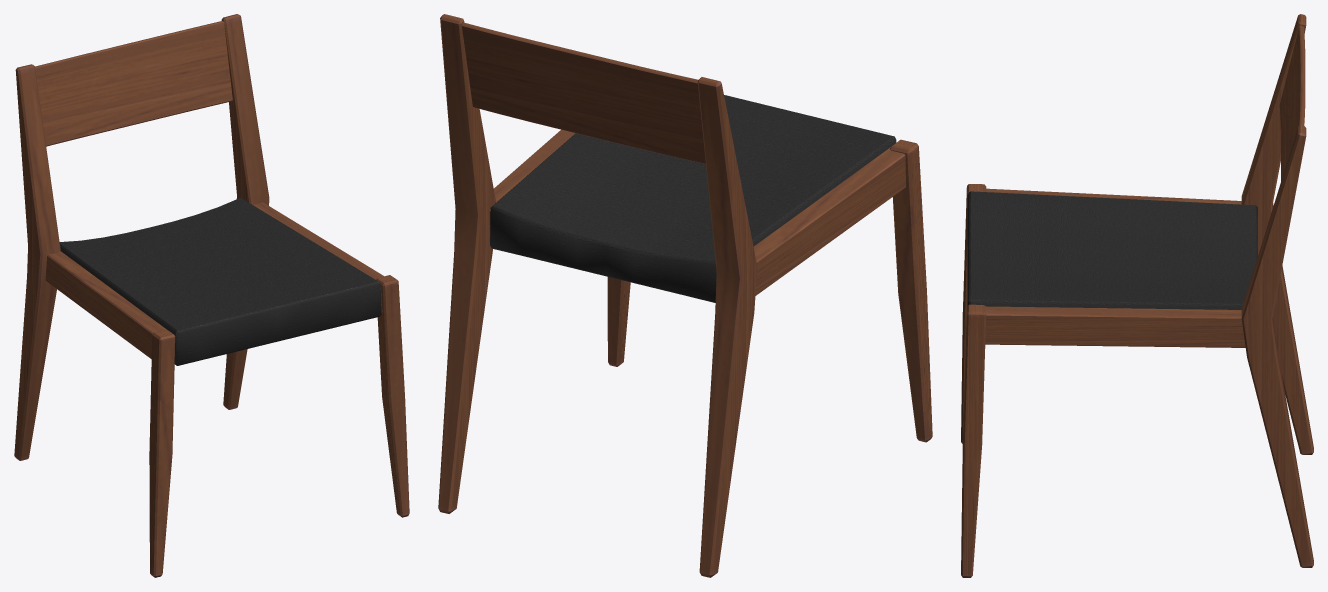
Rendered from chair1.gltf.
The picture shows the model from 3 angles, left to right: view 1: azimuth 30°, elevation 25°; view 2: azimuth 150°, elevation 25°; view 3: azimuth 270°, elevation 25°; orthographic projection. The views are drawn at different scales.
Visible parts, largest first — view 1: 1_primitive, 12_primitive, 6_primitive, 2_primitive, 15_primitive, 7_primitive, 16_primitive, 8_primitive, 4_primitive, 10_primitive, 13_primitive, 3_primitive (+1 smaller); view 2: 1_primitive, 12_primitive, 6_primitive, 7_primitive, 2_primitive, 10_primitive, 4_primitive, 15_primitive, 8_primitive, 16_primitive, 13_primitive, 3_primitive (+1 smaller); view 3: 1_primitive, 7_primitive, 10_primitive, 16_primitive, 8_primitive, 4_primitive, 6_primitive, 13_primitive, 3_primitive, 12_primitive, 2_primitive, 11_primitive.
Part boxes in pixels (left/top/right/bottom): 1_primitive: left=59, top=197, right=377, bottom=330; 12_primitive: left=35, top=22, right=232, bottom=145; 6_primitive: left=20, top=16, right=268, bottom=460; 2_primitive: left=175, top=281, right=381, bottom=365; 15_primitive: left=156, top=282, right=408, bottom=575; 7_primitive: left=14, top=19, right=248, bottom=459; 16_primitive: left=149, top=284, right=400, bottom=575; 8_primitive: left=47, top=202, right=383, bottom=333; 4_primitive: left=17, top=16, right=269, bottom=460; 10_primitive: left=45, top=256, right=152, bottom=358; 13_primitive: left=153, top=282, right=409, bottom=575; 3_primitive: left=60, top=244, right=177, bottom=364; 1_primitive: left=493, top=95, right=892, bottom=260; 12_primitive: left=462, top=26, right=705, bottom=163; 6_primitive: left=439, top=20, right=739, bottom=575; 7_primitive: left=451, top=21, right=757, bottom=574; 2_primitive: left=490, top=95, right=895, bottom=302; 10_primitive: left=489, top=155, right=905, bottom=295; 4_primitive: left=438, top=18, right=741, bottom=575; 15_primitive: left=608, top=150, right=924, bottom=440; 8_primitive: left=490, top=129, right=905, bottom=291; 16_primitive: left=619, top=146, right=932, bottom=439; 13_primitive: left=607, top=149, right=927, bottom=440; 3_primitive: left=492, top=133, right=896, bottom=246; 1_primitive: left=971, top=191, right=1255, bottom=303; 7_primitive: left=1243, top=24, right=1311, bottom=567; 10_primitive: left=985, top=315, right=1245, bottom=347; 16_primitive: left=963, top=246, right=984, bottom=576; 8_primitive: left=985, top=188, right=1245, bottom=347; 4_primitive: left=1241, top=23, right=1313, bottom=566; 6_primitive: left=1241, top=15, right=1313, bottom=563; 13_primitive: left=961, top=193, right=986, bottom=575; 3_primitive: left=970, top=300, right=1242, bottom=309; 12_primitive: left=1279, top=27, right=1300, bottom=181; 2_primitive: left=967, top=191, right=1257, bottom=305; 11_primitive: left=1299, top=25, right=1305, bottom=125.
Size of the model in its own units: 0.51 by 0.75 by 0.55.
16 materials, 16 textured.
